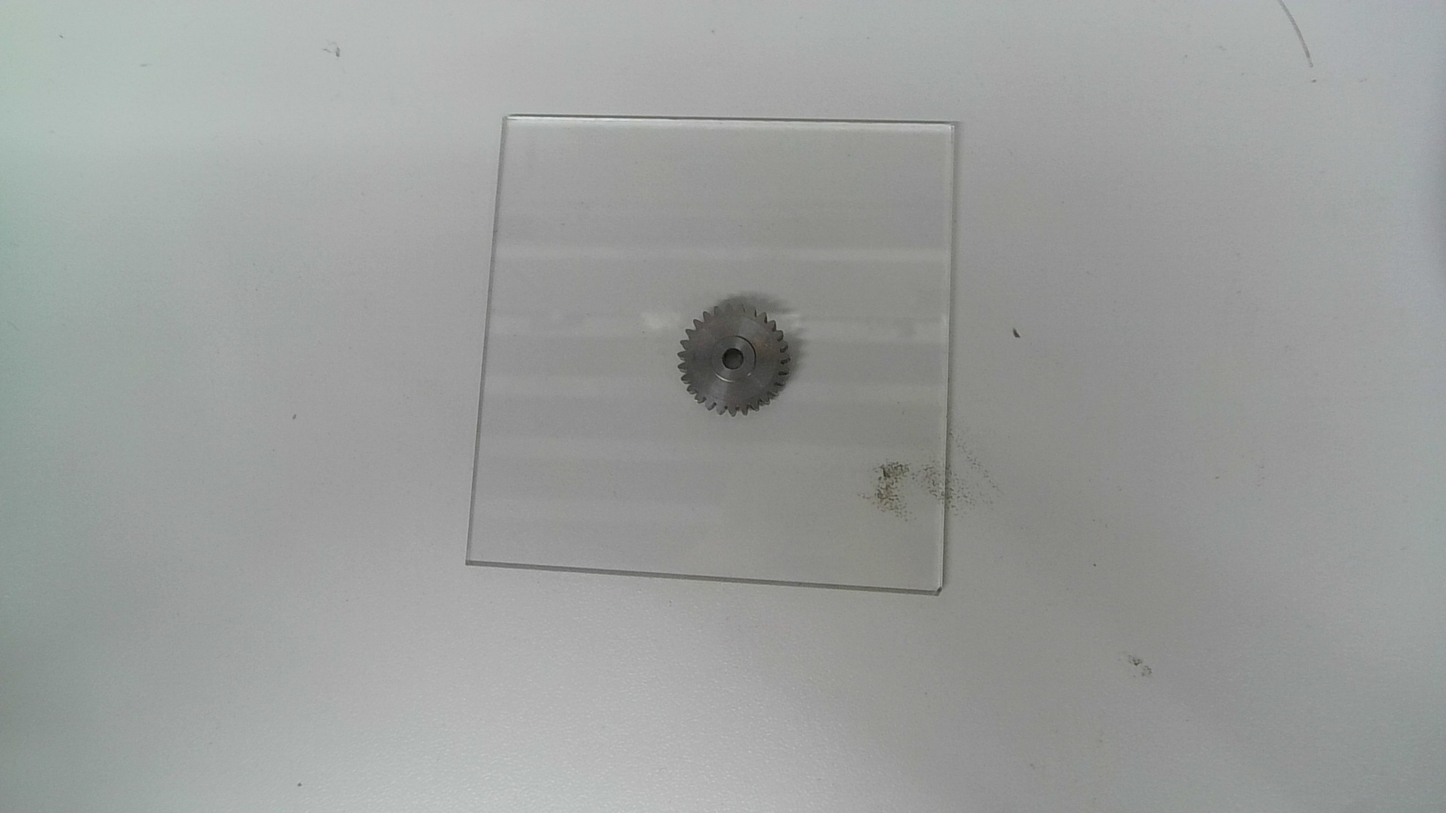gear: (677, 302, 791, 419)
